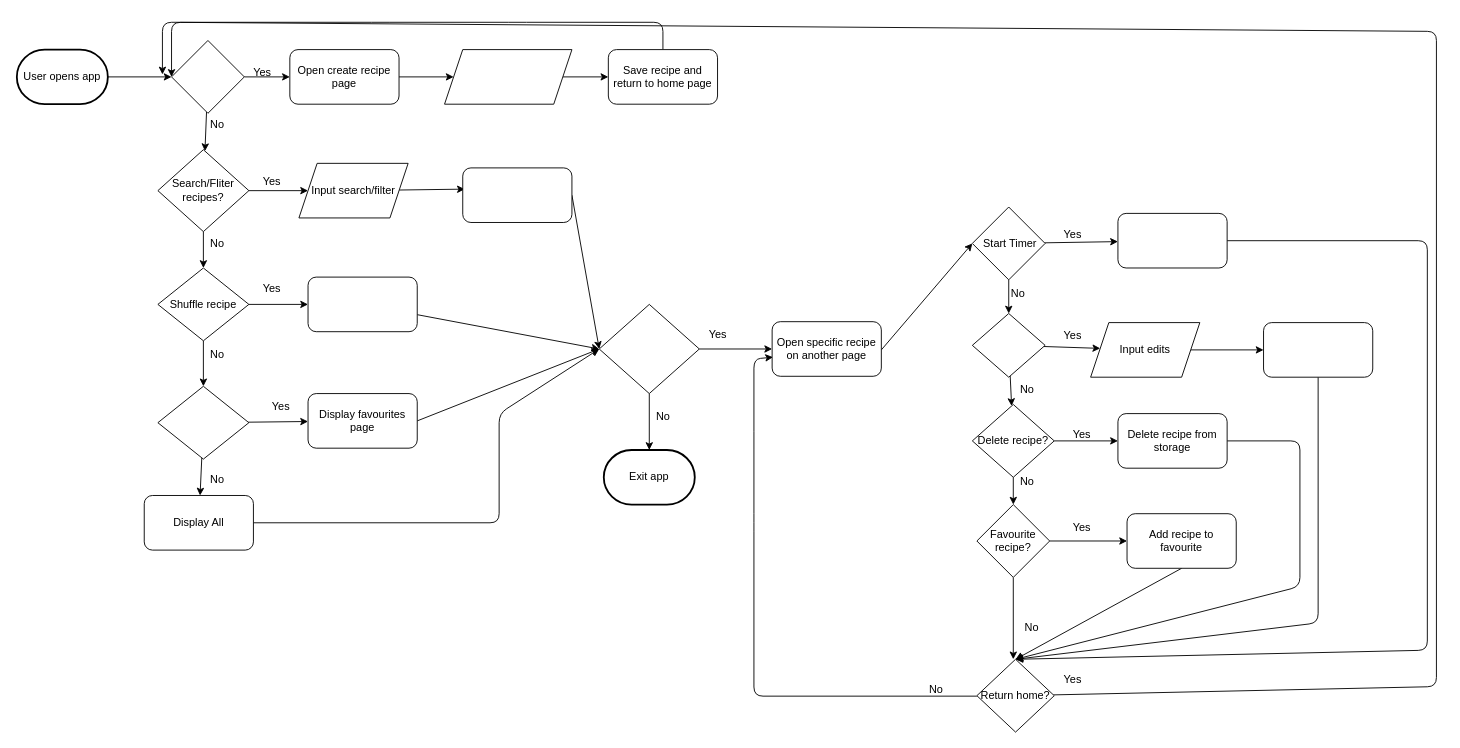
Image size: 1460x748. Some labels were removed from this diagram. The box of each missing label's shape, as (x1, y1, x2, y2) in pixels:
Create recipe?: (171, 40, 244, 113)
Display filtered recipes: (462, 167, 572, 222)
Display random recipe: (307, 276, 417, 332)
Edit recipe?: (971, 313, 1045, 377)
Favourite page?: (157, 385, 249, 459)
Input recipe details: (444, 49, 572, 104)
Open specific recipe?: (598, 303, 699, 394)
Timer Starts: (1117, 212, 1227, 268)
Update recipe with edits: (1263, 322, 1373, 377)
